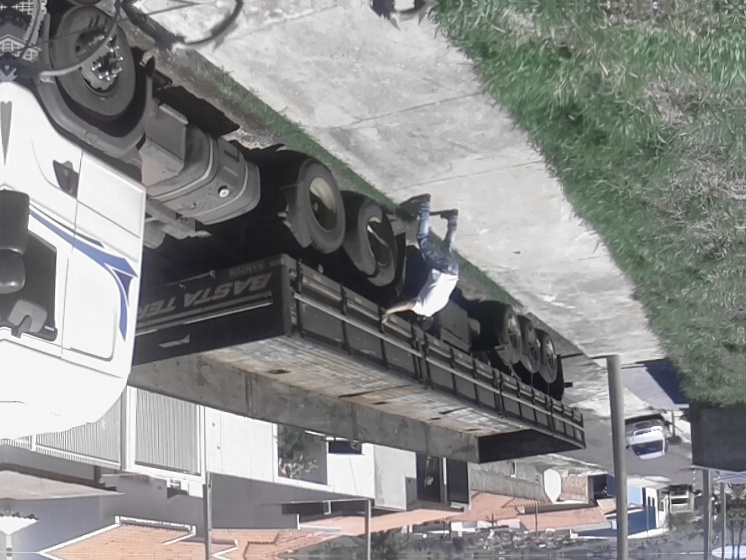person: (380, 192, 461, 332)
